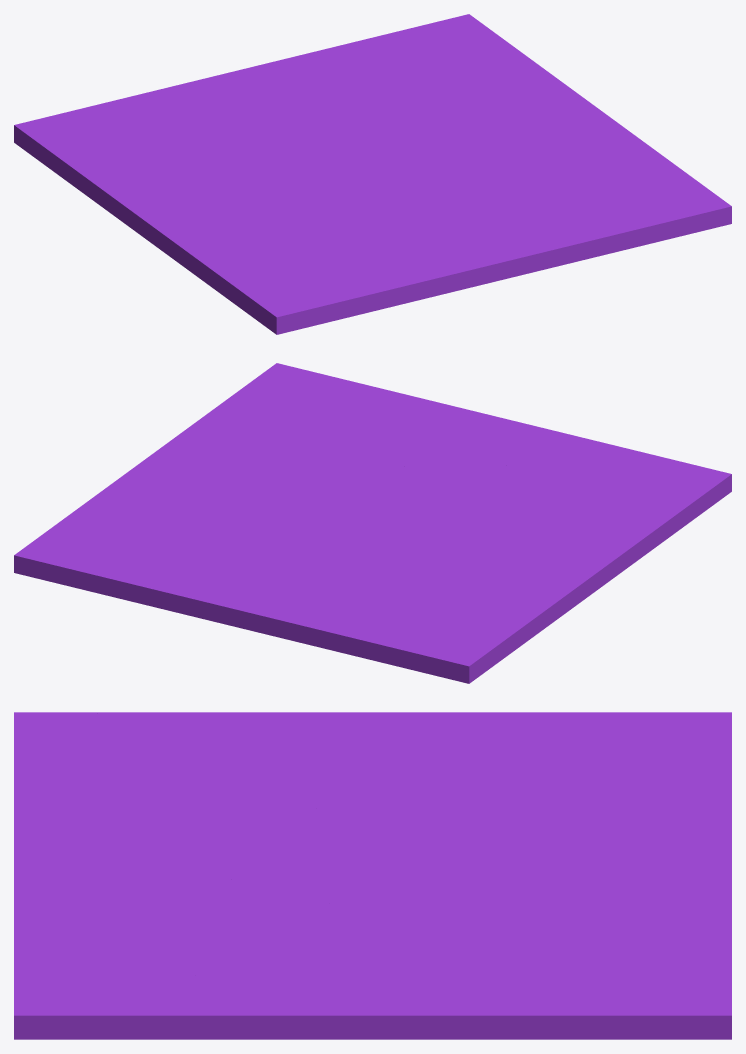
File: Platform_23_chunks.fbx
The picture shows the model from 3 angles, top to bottom: view 1: azimuth 30°, elevation 25°; view 2: azimuth 150°, elevation 25°; view 3: azimuth 270°, elevation 25°; orthographic projection. The views are drawn at different scales.
Parts seen in each view (by area): view 1: Platform_23_6, Platform_23_7, Platform_23_2, Platform_23_5, Platform_23_18, Platform_23_3, Platform_23_14, Platform_23_12, Platform_23_9, Platform_23_20, Platform_23_17, Platform_23_0 (+8 smaller); view 2: Platform_23_6, Platform_23_7, Platform_23_2, Platform_23_5, Platform_23_18, Platform_23_3, Platform_23_12, Platform_23_9, Platform_23_20, Platform_23_17, Platform_23_14, Platform_23_0 (+6 smaller); view 3: Platform_23_6, Platform_23_5, Platform_23_7, Platform_23_2, Platform_23_3, Platform_23_9, Platform_23_18, Platform_23_12, Platform_23_17, Platform_23_20, Platform_23_14, Platform_23_0 (+6 smaller).
Part boxes in pixels (x1,y1,x2,y2): Platform_23_6: (301,14,589,119); Platform_23_7: (70,63,343,155); Platform_23_2: (444,176,731,237); Platform_23_5: (459,102,691,177); Platform_23_18: (14,111,199,205); Platform_23_3: (267,63,470,163); Platform_23_14: (246,260,467,334); Platform_23_12: (195,220,379,313); Platform_23_9: (219,143,367,248); Platform_23_20: (100,182,227,275); Platform_23_17: (419,219,610,267); Platform_23_0: (364,158,706,188); Platform_23_6: (14,467,230,606); Platform_23_7: (216,540,419,669); Platform_23_2: (252,363,436,483); Platform_23_5: (135,392,324,501); Platform_23_18: (409,583,556,683); Platform_23_3: (214,484,359,605); Platform_23_12: (488,470,703,550); Platform_23_9: (338,514,619,569); Platform_23_20: (512,529,653,620); Platform_23_17: (398,392,542,462); Platform_23_14: (539,427,731,512); Platform_23_0: (237,381,390,519); Platform_23_6: (402,903,731,1039); Platform_23_5: (101,909,434,1039); Platform_23_7: (476,749,731,880); Platform_23_2: (14,873,294,1039); Platform_23_3: (320,866,731,943); Platform_23_9: (245,730,493,868); Platform_23_18: (470,712,731,791); Platform_23_12: (97,712,269,822); Platform_23_17: (14,822,160,934); Platform_23_20: (228,712,493,761); Platform_23_14: (14,712,101,839); Platform_23_0: (81,855,396,1023).
Bounding box in the file's own units: 810 × 29.87 × 810.
